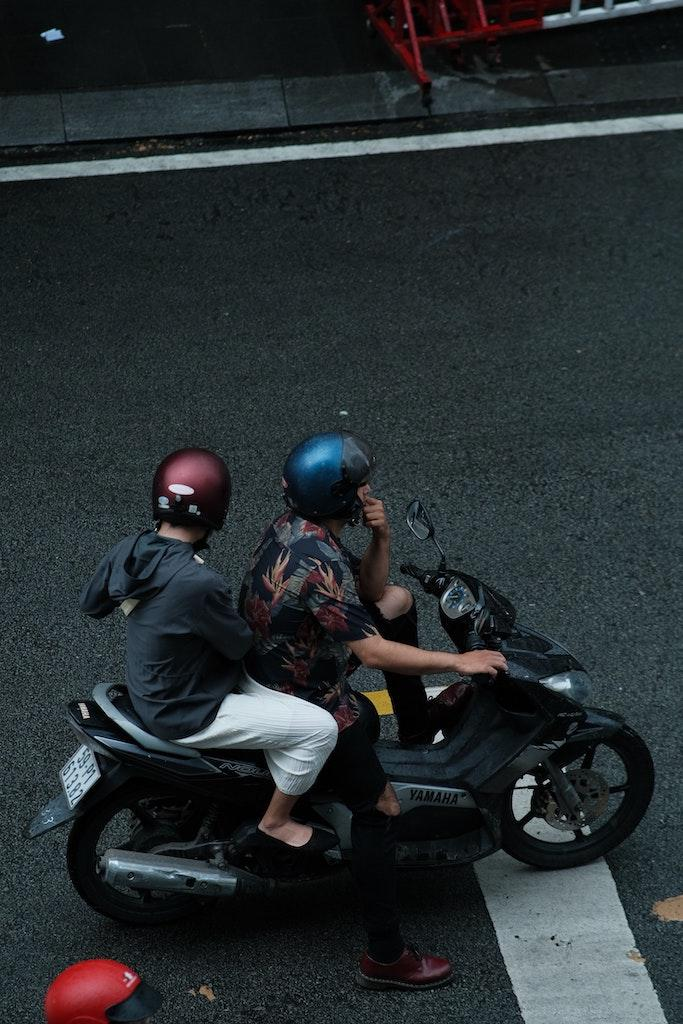helmet: (281, 429, 377, 528), (150, 446, 233, 554)
